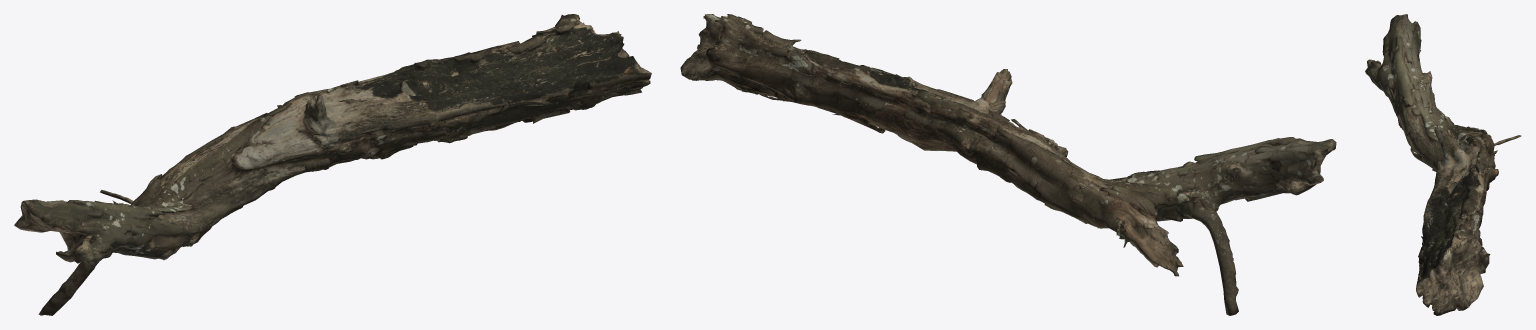
The model's file is B_Log_02.fbx.
3 views of the same model, side by side, from view 1: azimuth 30°, elevation 25°; view 2: azimuth 150°, elevation 25°; view 3: azimuth 270°, elevation 25° (orthographic). The views are drawn at different scales.
Parts seen in each view (by area): view 1: B_Log_02_LOD0; view 2: B_Log_02_LOD0; view 3: B_Log_02_LOD0.
Boxes of the visible parts, x1=… form: B_Log_02_LOD0: x1=14, y1=14, x2=651, y2=315; B_Log_02_LOD0: x1=680, y1=14, x2=1336, y2=315; B_Log_02_LOD0: x1=1365, y1=14, x2=1521, y2=315.
Size of what is drawn, in the model's own units: 5.61 by 1.46 by 1.46.
